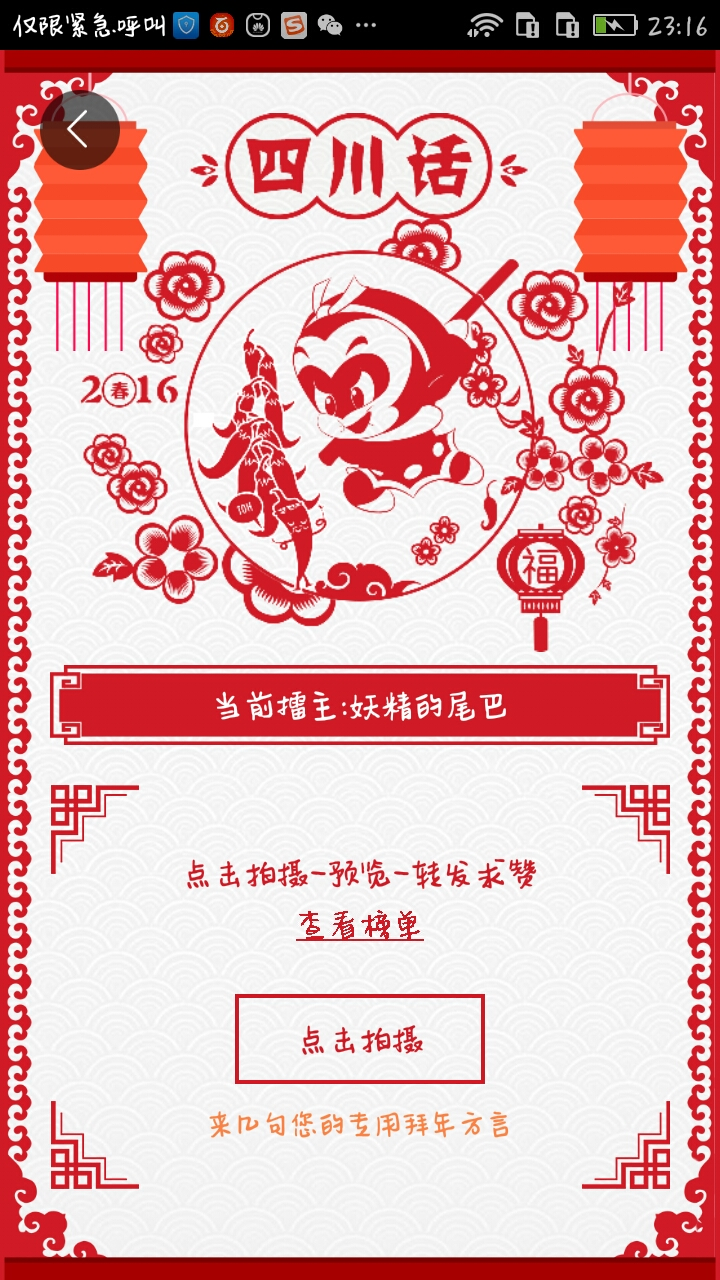button: (218, 980, 497, 1098)
imgview: (147, 223, 585, 634)
